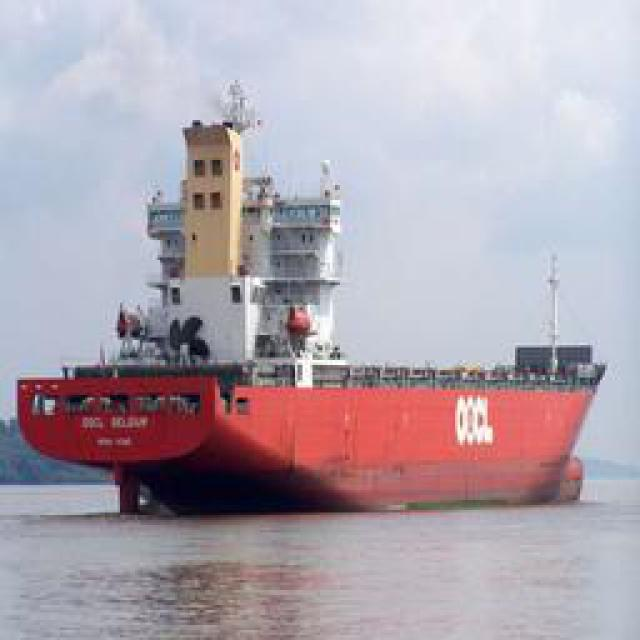Ship: (44, 127, 607, 507)
